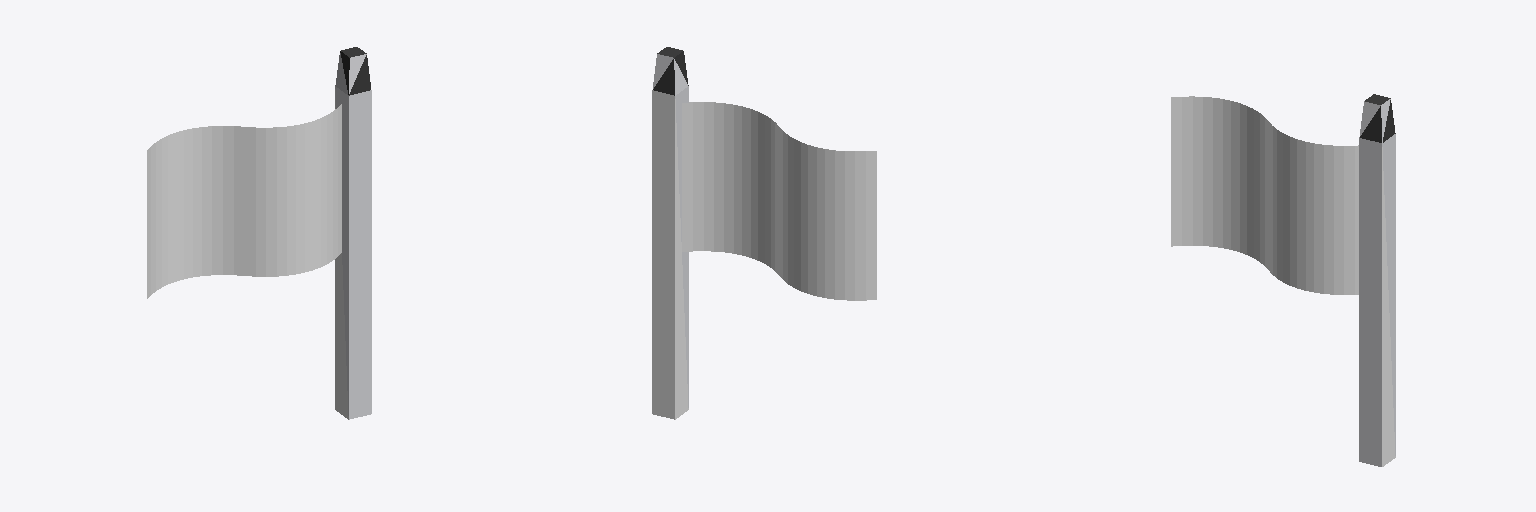
File: flagCheckersSmall.obj
3 views of the same model, side by side, from view 1: azimuth 30°, elevation 25°; view 2: azimuth 150°, elevation 25°; view 3: azimuth 330°, elevation 25° (orthographic).
Visible parts, largest first — view 1: flagCheckersSmall; view 2: flagCheckersSmall; view 3: flagCheckersSmall.
Boxes of the visible parts, box(x1,y1,x2,y2) form: flagCheckersSmall: box(147, 47, 371, 419); flagCheckersSmall: box(652, 47, 876, 419); flagCheckersSmall: box(1171, 94, 1395, 466).
Size of the model in its own units: 0.19 by 0.3 by 0.0352.